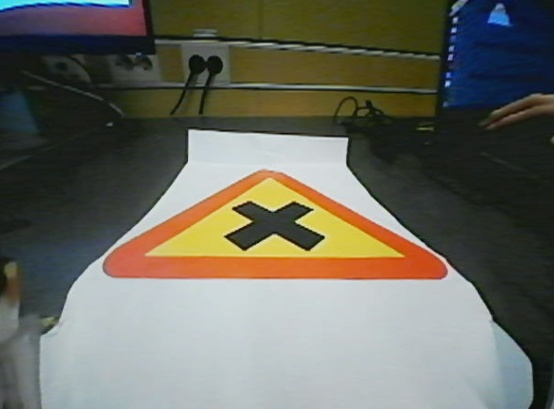junction: (89, 170, 464, 281)
